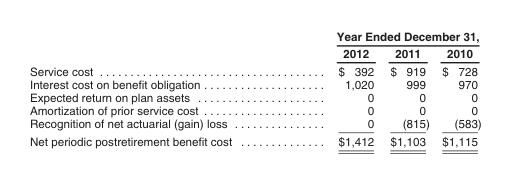table: (28, 29, 480, 147)
table column: (28, 29, 283, 147), (283, 29, 381, 147), (381, 29, 435, 147), (435, 29, 480, 147)
table column header: (28, 29, 480, 62)
table row: (28, 44, 480, 62), (28, 131, 480, 147), (28, 29, 480, 44), (28, 62, 480, 77), (28, 116, 480, 131), (28, 77, 480, 90), (28, 90, 480, 103), (28, 103, 480, 116)
table spanning cell: (283, 29, 480, 44)
